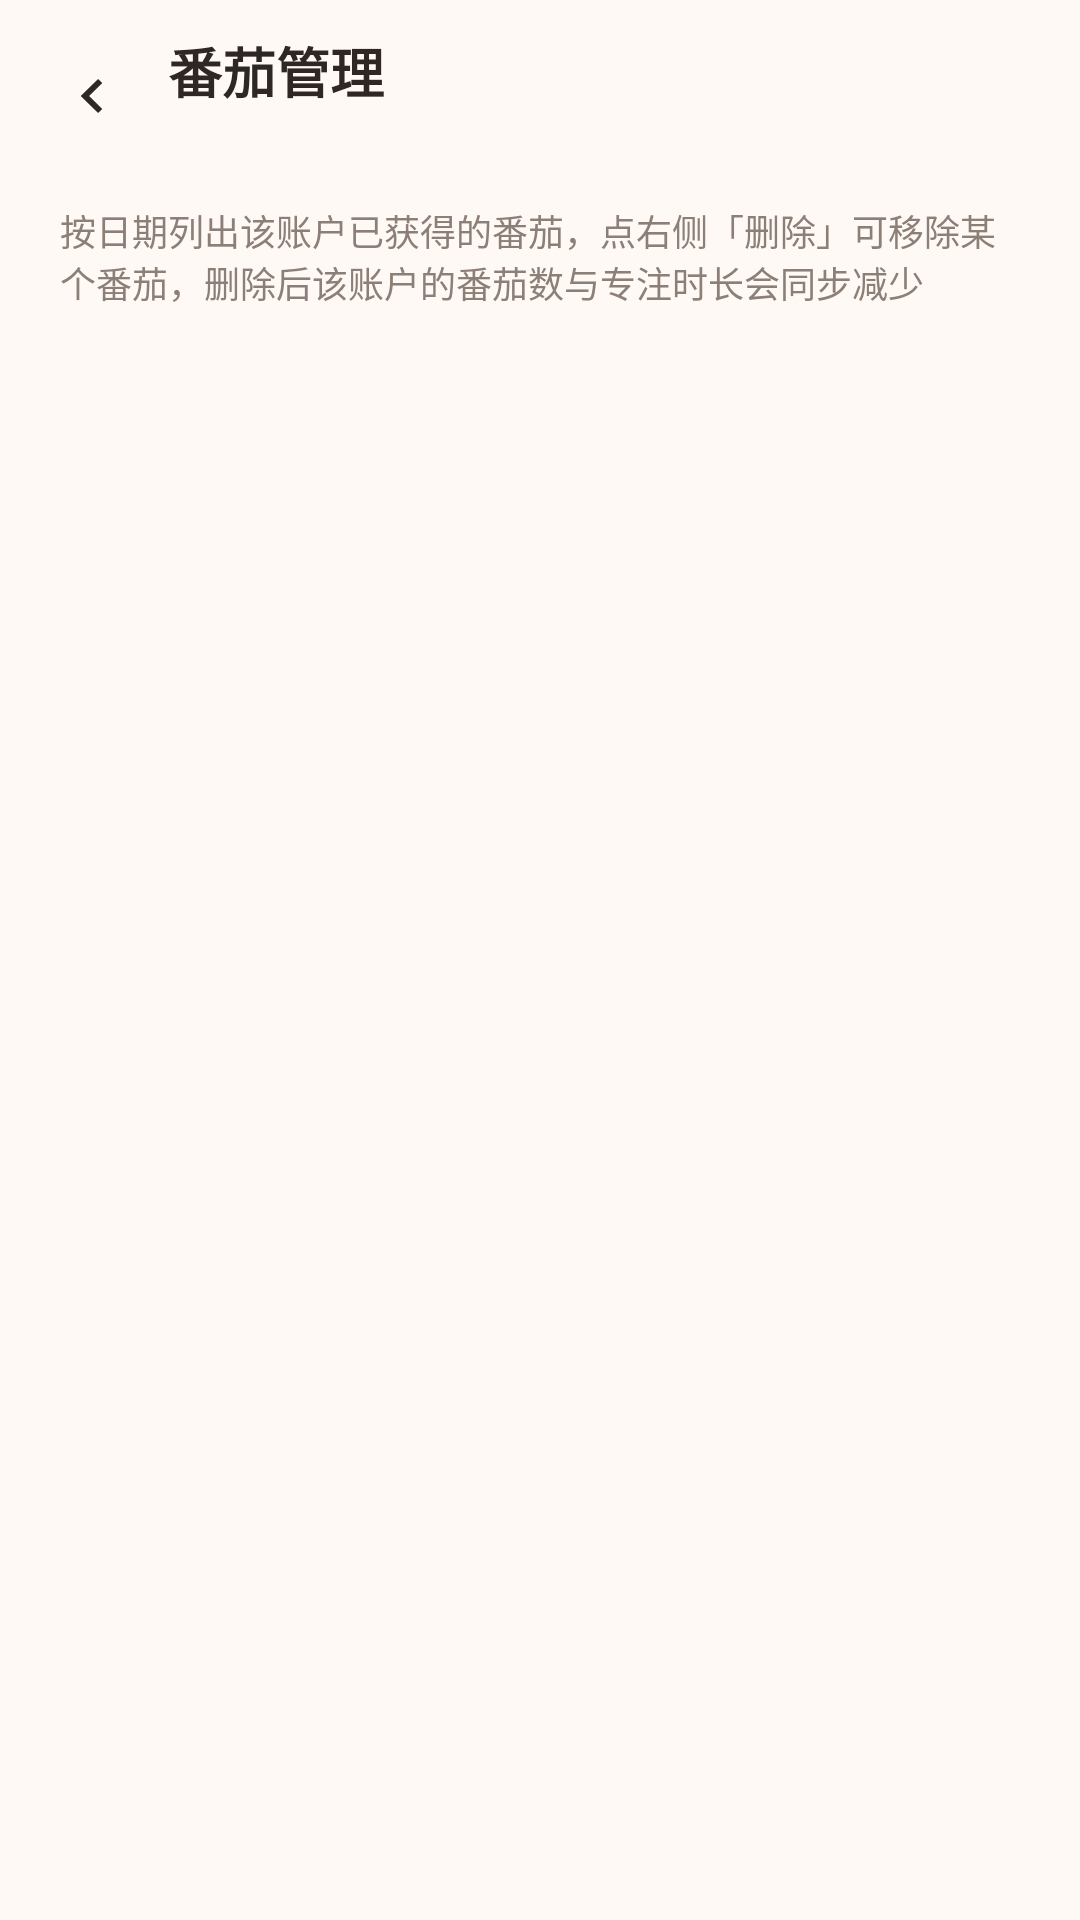

Where to tap for icons on this 1080 × 1920 app screen, as (x=x, y=y):
返回: (x=91, y=96)
